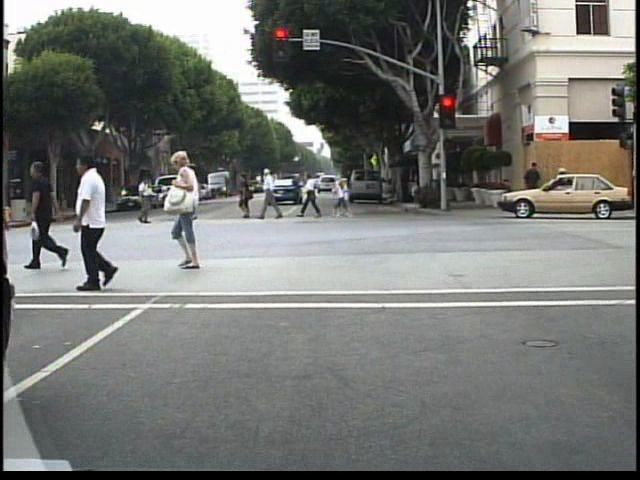person: (96, 147, 172, 294), (168, 150, 227, 271), (24, 155, 77, 277), (259, 166, 288, 222), (301, 169, 325, 222), (135, 173, 159, 225), (234, 171, 258, 222), (4, 185, 24, 236), (523, 158, 543, 208), (551, 161, 569, 213), (14, 195, 35, 238), (192, 171, 193, 228)
